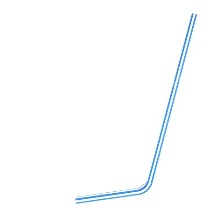drinking_straw: (70, 8, 203, 209)
